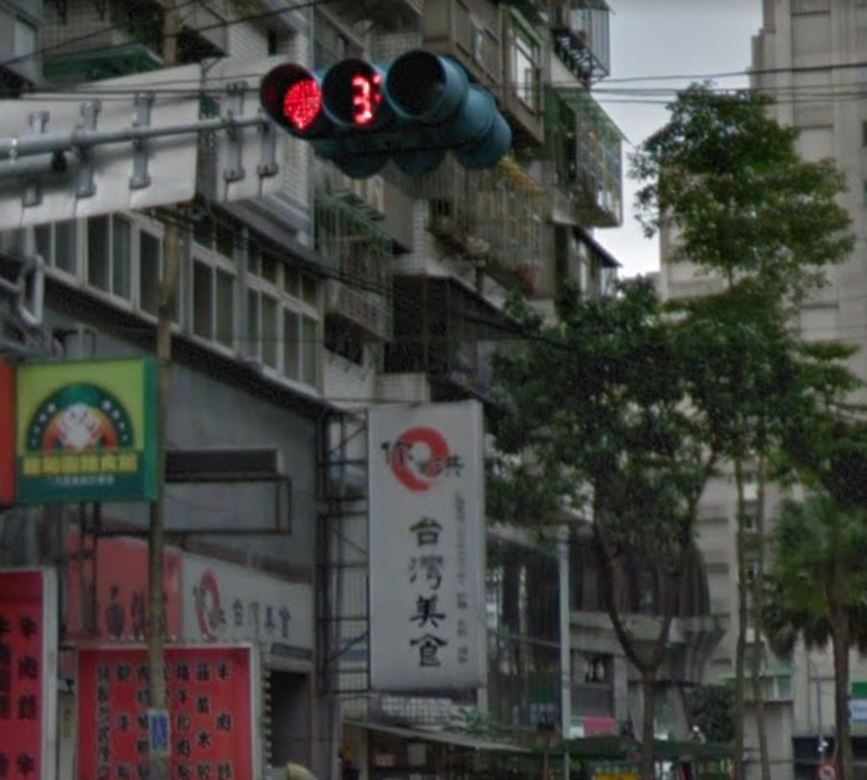Traffic_light_red: (253, 46, 488, 138)
